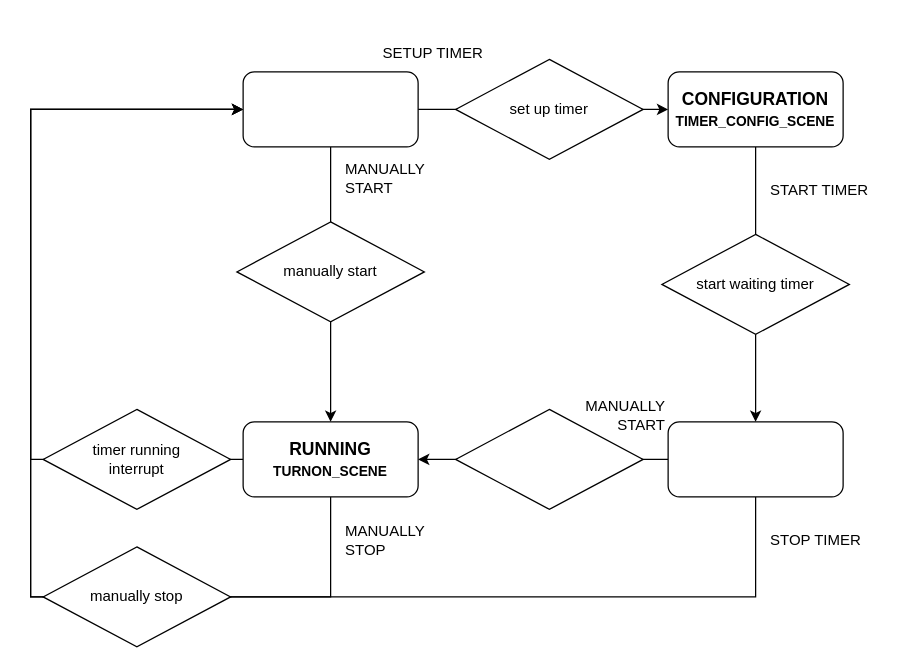
Image size: 903x669. Some labels were removed from this diagram. Each missing label, with the box of its shape:
STOPPED FRONT_SCREEN: (242, 71, 418, 147)
timer waiting interrupt: (454, 408, 643, 509)
WAITING WAITING_SCENE: (667, 421, 843, 497)
